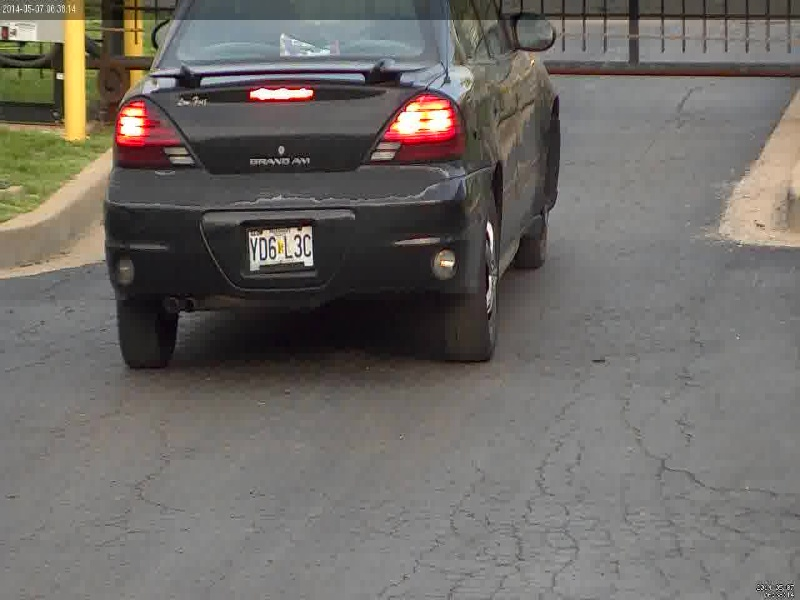licence plate: (244, 221, 318, 276)
